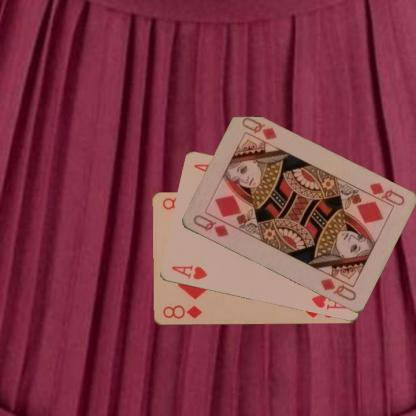8d: (160, 302, 204, 320)
Ah: (168, 262, 209, 282)
Qd: (360, 180, 406, 209), (190, 212, 230, 239)
